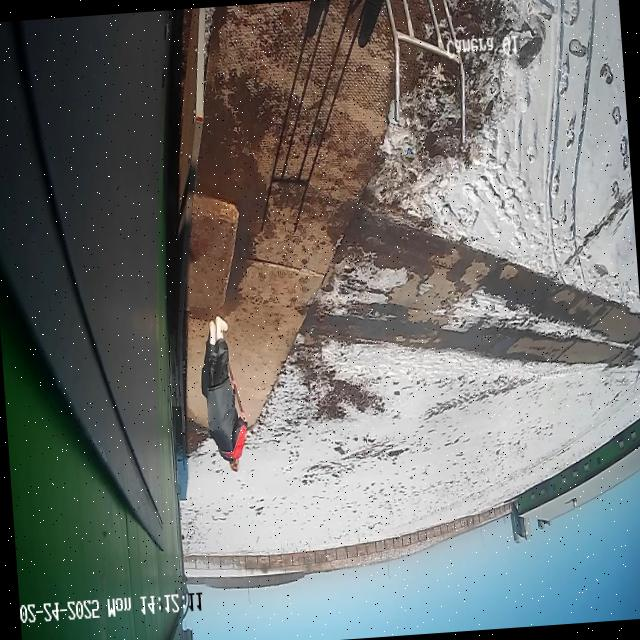Red uniform: (200, 334, 249, 464)
